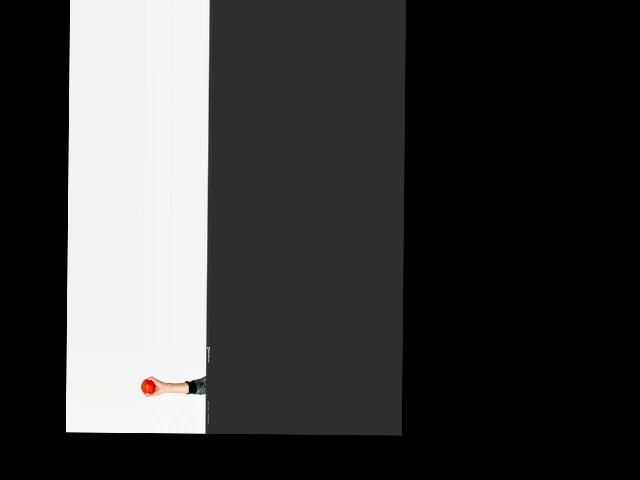tomato: (140, 379, 155, 394)
